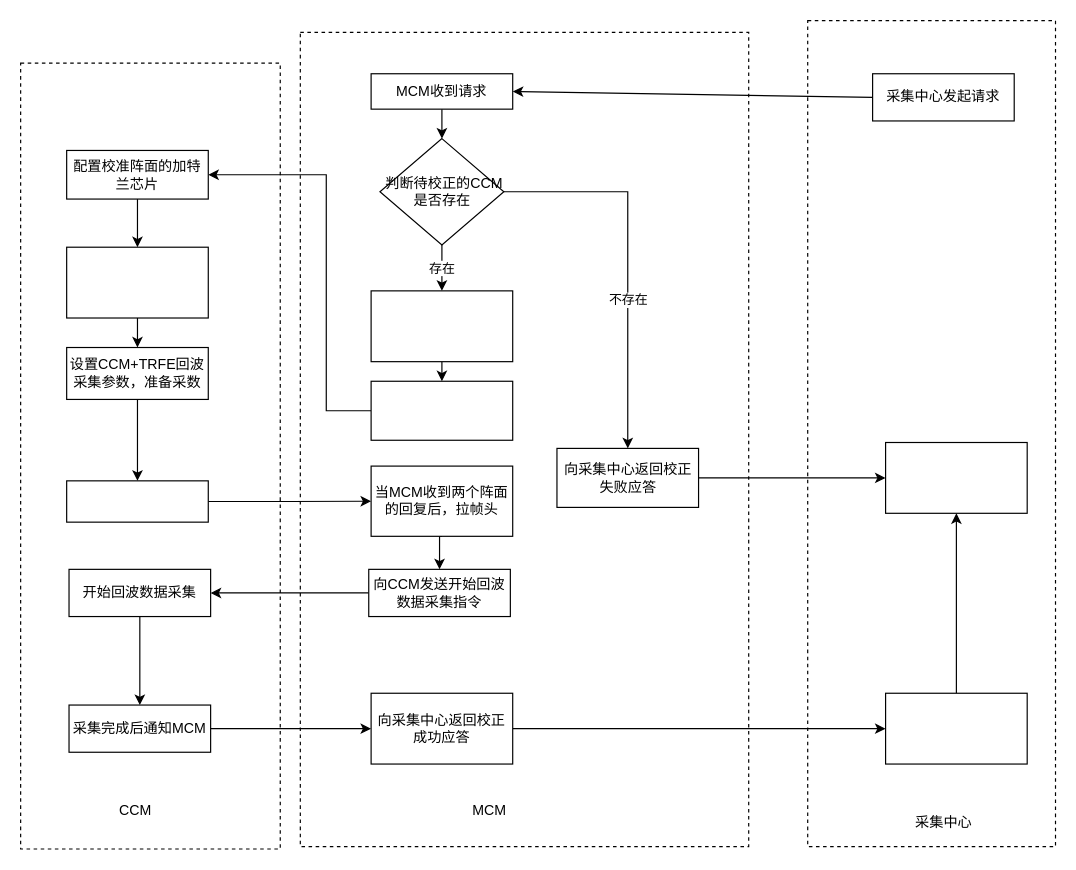
Image size: 1076x870. Some labels were removed from this diagram. The box of each missing label's shape, as (x1, y1, x2, y2) in pixels:
向MCM发送寄存器配置完成信号: (65, 480, 208, 522)
向选中的CCM下发参考校准请求: (370, 380, 513, 440)
流程结束: (884, 441, 1027, 513)
通过FTP服务获取回波采集数据: (884, 692, 1027, 764)
配置MCM参考校准寄存器: (370, 290, 513, 362)
配置当前CCM和选中的TRFE的参考校准模式寄存器: (65, 246, 208, 318)
